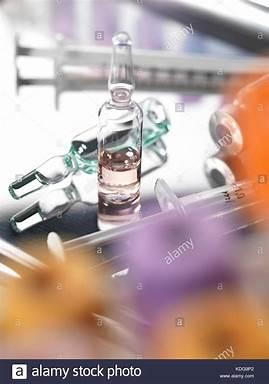Syringe: (91, 21, 152, 219)
